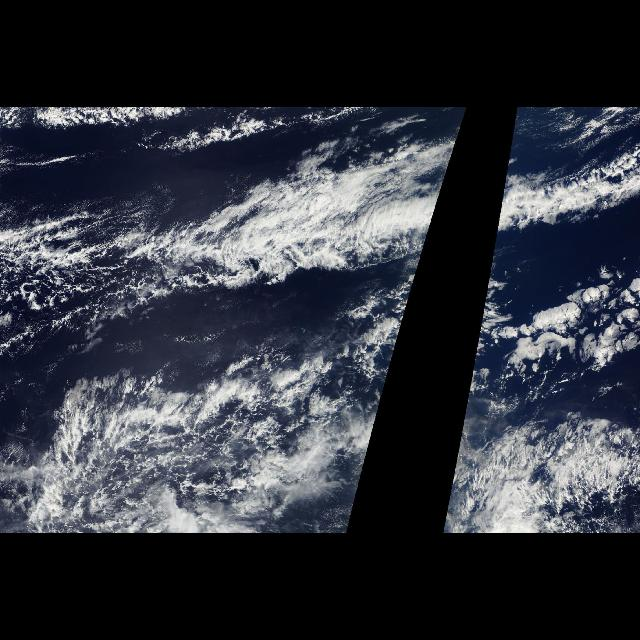Fish: (1, 146, 456, 410), (463, 146, 639, 410)
Flower: (516, 284, 636, 406)
Gravel: (7, 244, 387, 384)
